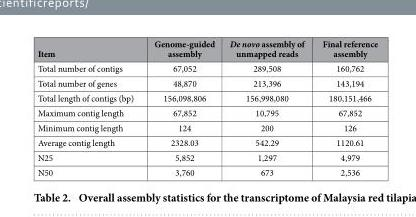table: (36, 37, 377, 178)
table column: (36, 37, 143, 178), (221, 37, 312, 178), (143, 37, 221, 178), (312, 37, 377, 178)
table column header: (36, 37, 377, 60)
table row: (36, 37, 377, 60), (36, 60, 377, 75), (36, 75, 377, 90), (36, 90, 377, 105), (36, 119, 377, 134), (36, 134, 377, 149), (36, 149, 377, 164), (36, 105, 377, 119), (36, 164, 377, 178)
